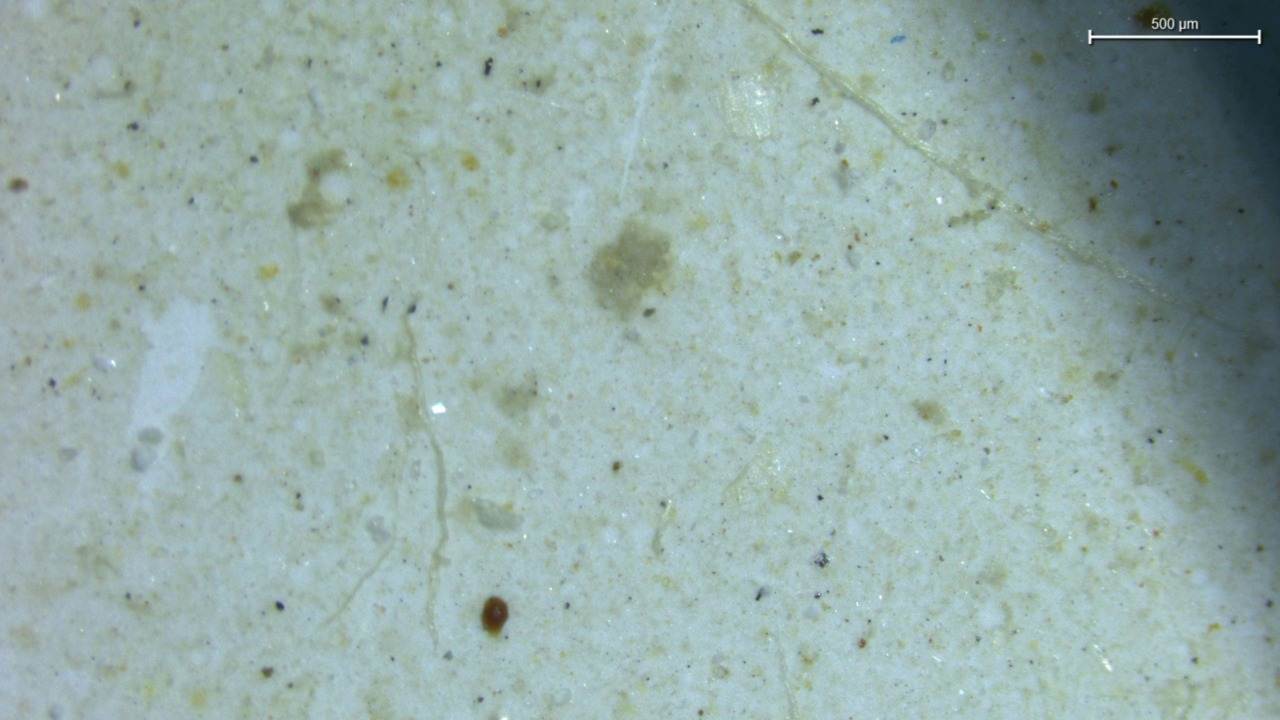microplastic_fragment: (472, 498, 522, 530), (131, 447, 154, 471)
